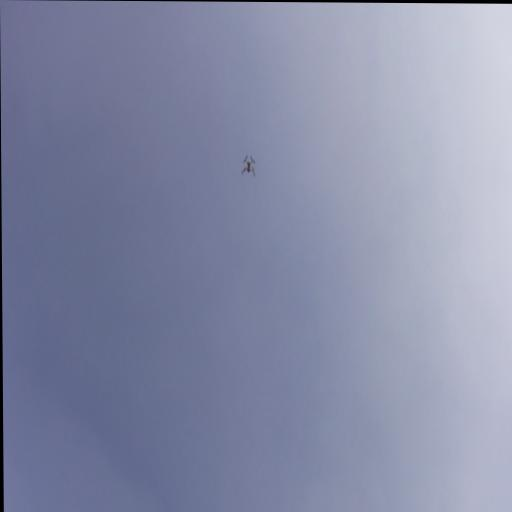drones: (241, 152, 257, 178)
